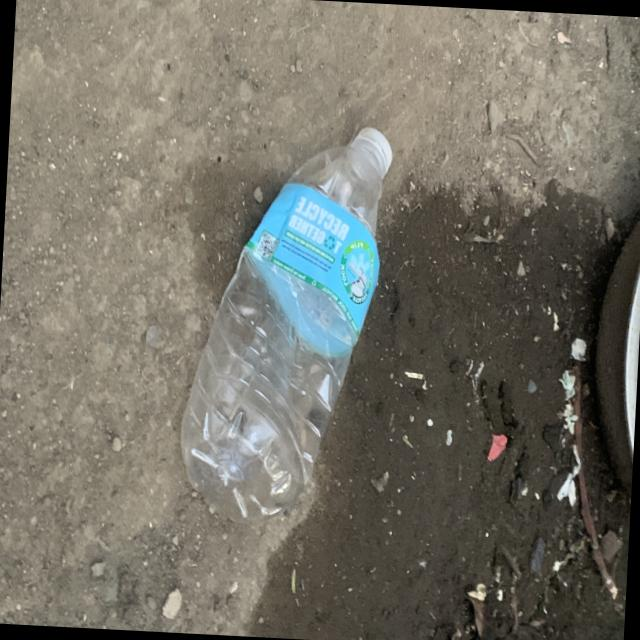Bottle: (181, 127, 392, 522)
